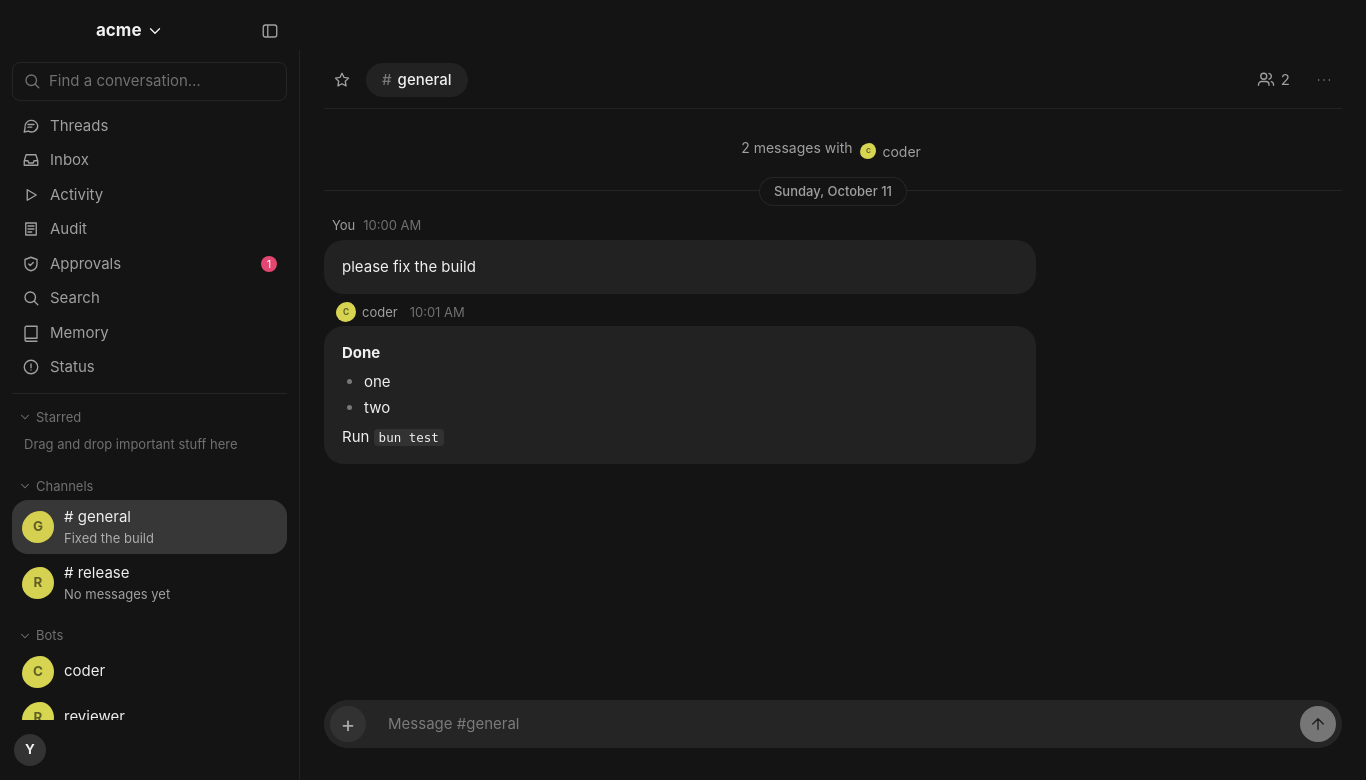
Test: views › Search shows hits and a message hit opens its channel
Click the button "Search" at (75, 298), box [12,281,287,316]
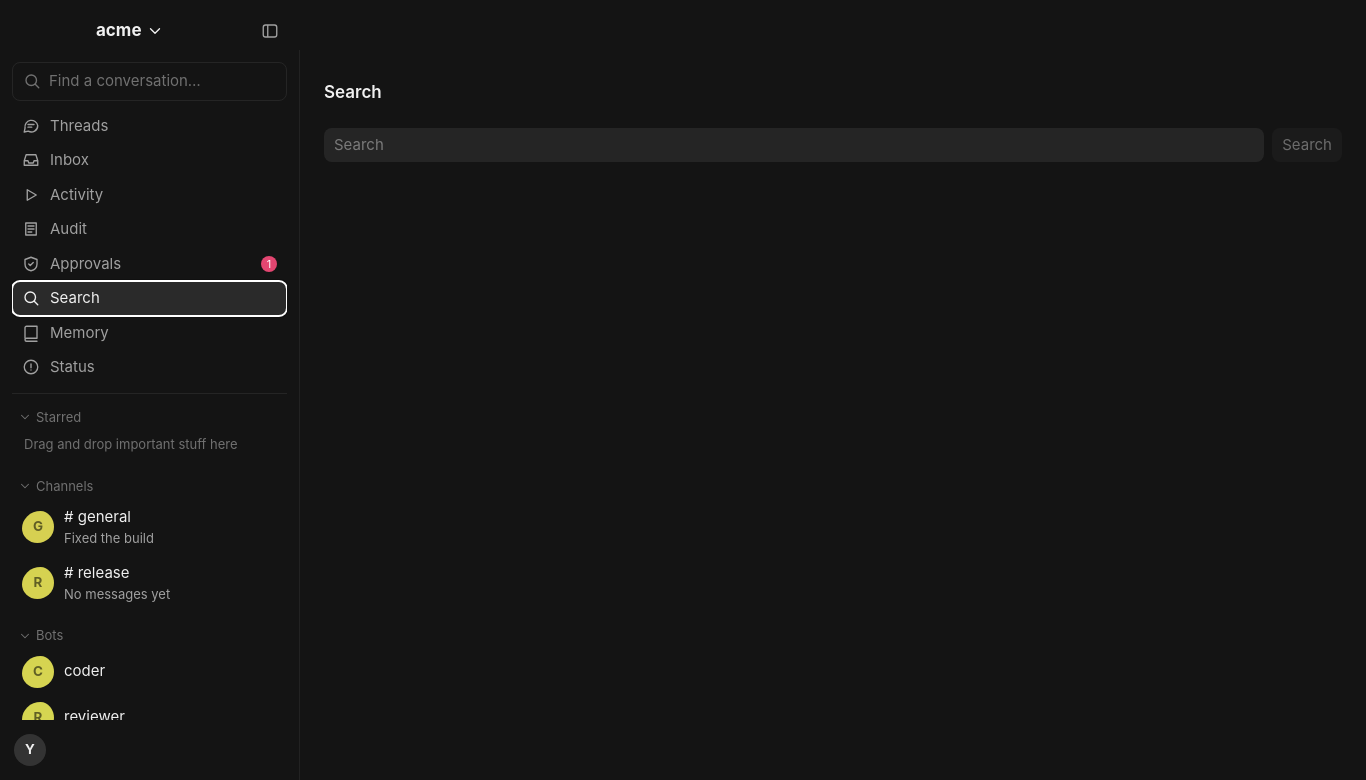
Type "release" into the field named "Query" at (794, 145), box [324,128,1264,162]
Then press Enter
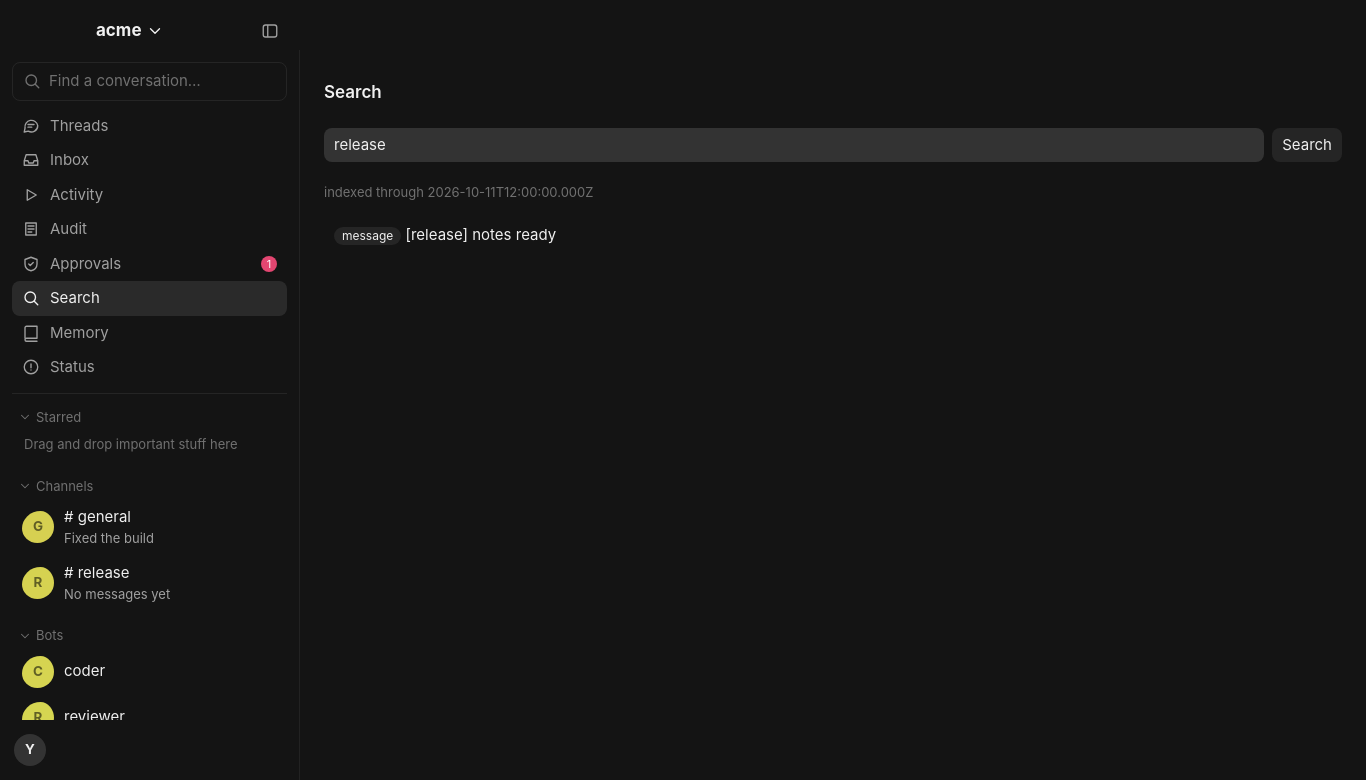
Click the button "message [release] notes ready" at (368, 236), box [324,220,1342,257]
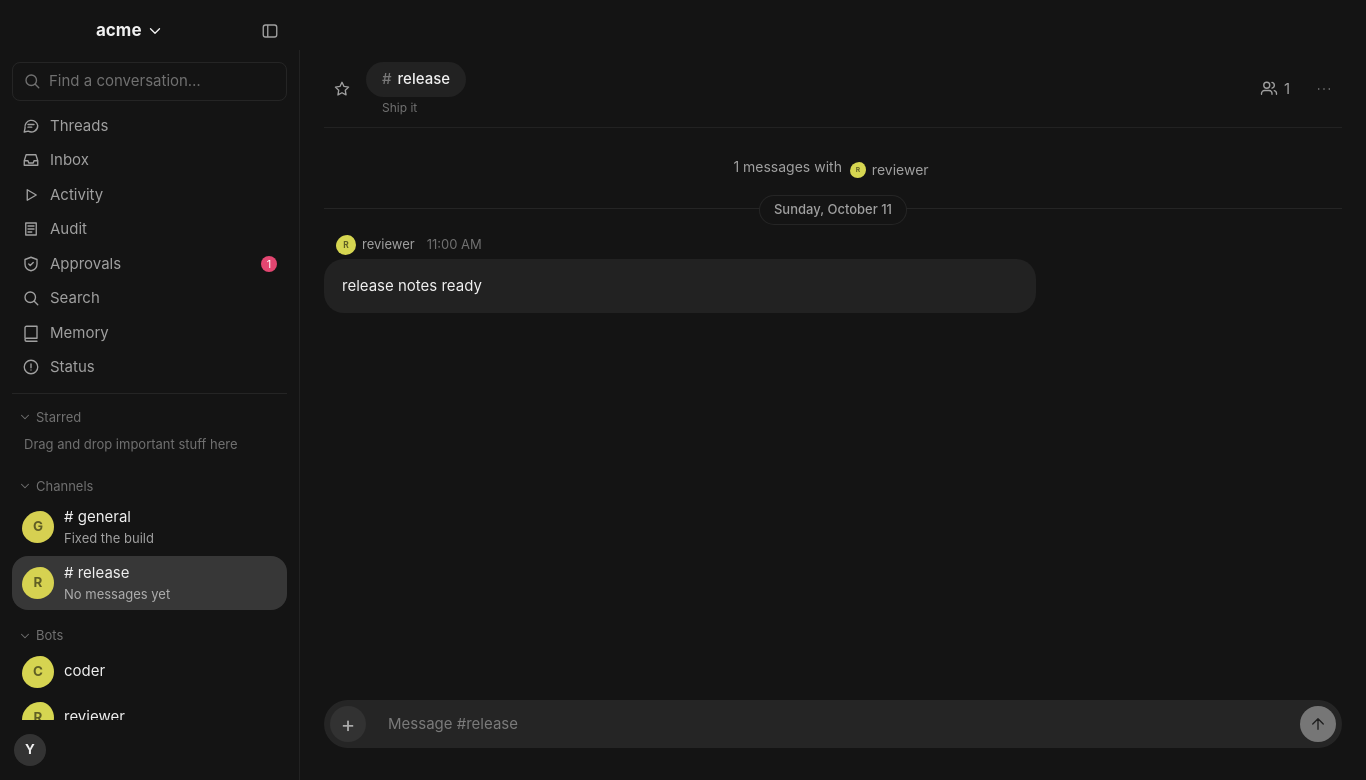
Now the text "release notes ready" is shown, box [342,276,482,295]
